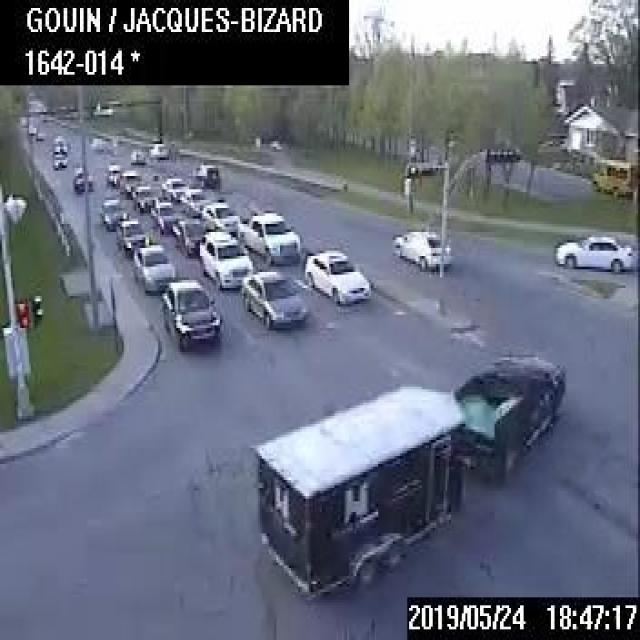bus: (590, 156, 638, 198)
vehicle: (255, 352, 569, 592), (160, 277, 220, 351), (240, 269, 306, 326), (304, 247, 369, 303), (236, 209, 298, 266), (198, 229, 251, 287), (555, 232, 632, 270), (390, 228, 450, 268), (132, 242, 175, 292), (200, 200, 238, 232), (115, 216, 144, 254), (173, 218, 203, 254), (99, 196, 127, 228), (149, 200, 177, 232), (179, 188, 208, 216), (190, 162, 218, 189), (160, 176, 188, 202), (131, 183, 154, 212), (118, 168, 140, 195), (71, 169, 92, 191), (105, 162, 120, 185), (148, 142, 167, 158), (51, 151, 66, 168), (51, 136, 66, 150), (129, 147, 143, 160), (90, 136, 103, 149), (35, 129, 44, 139), (27, 123, 35, 132)
